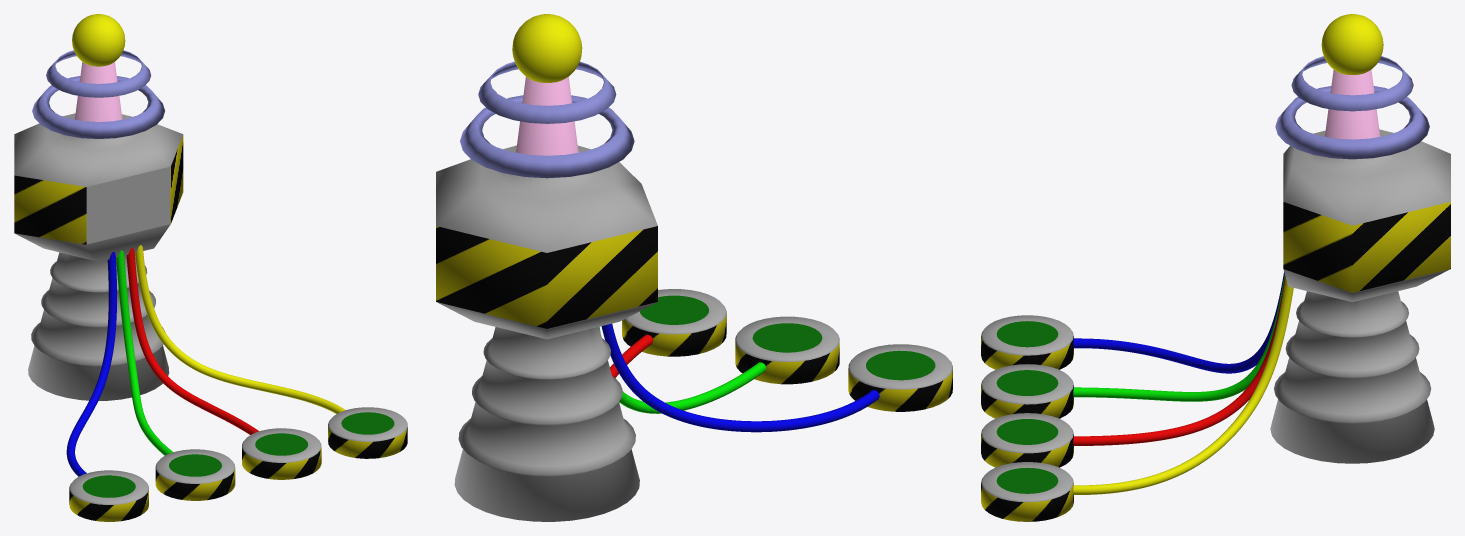
The model's file is thundering dynamo central.fbx.
3 renders of one model, left to right at view 1: azimuth 30°, elevation 25°; view 2: azimuth 150°, elevation 25°; view 3: azimuth 270°, elevation 25°, orthographic. The views are drawn at different scales.
Visible parts, largest first — view 1: ThunderMachine; view 2: ThunderMachine; view 3: ThunderMachine.
Part boxes in pixels (left/top/right/bottom): ThunderMachine: left=14, top=14, right=407, bottom=521; ThunderMachine: left=436, top=14, right=952, bottom=521; ThunderMachine: left=981, top=14, right=1450, bottom=521.
Size of the model in its own units: 456 by 472 by 487.
